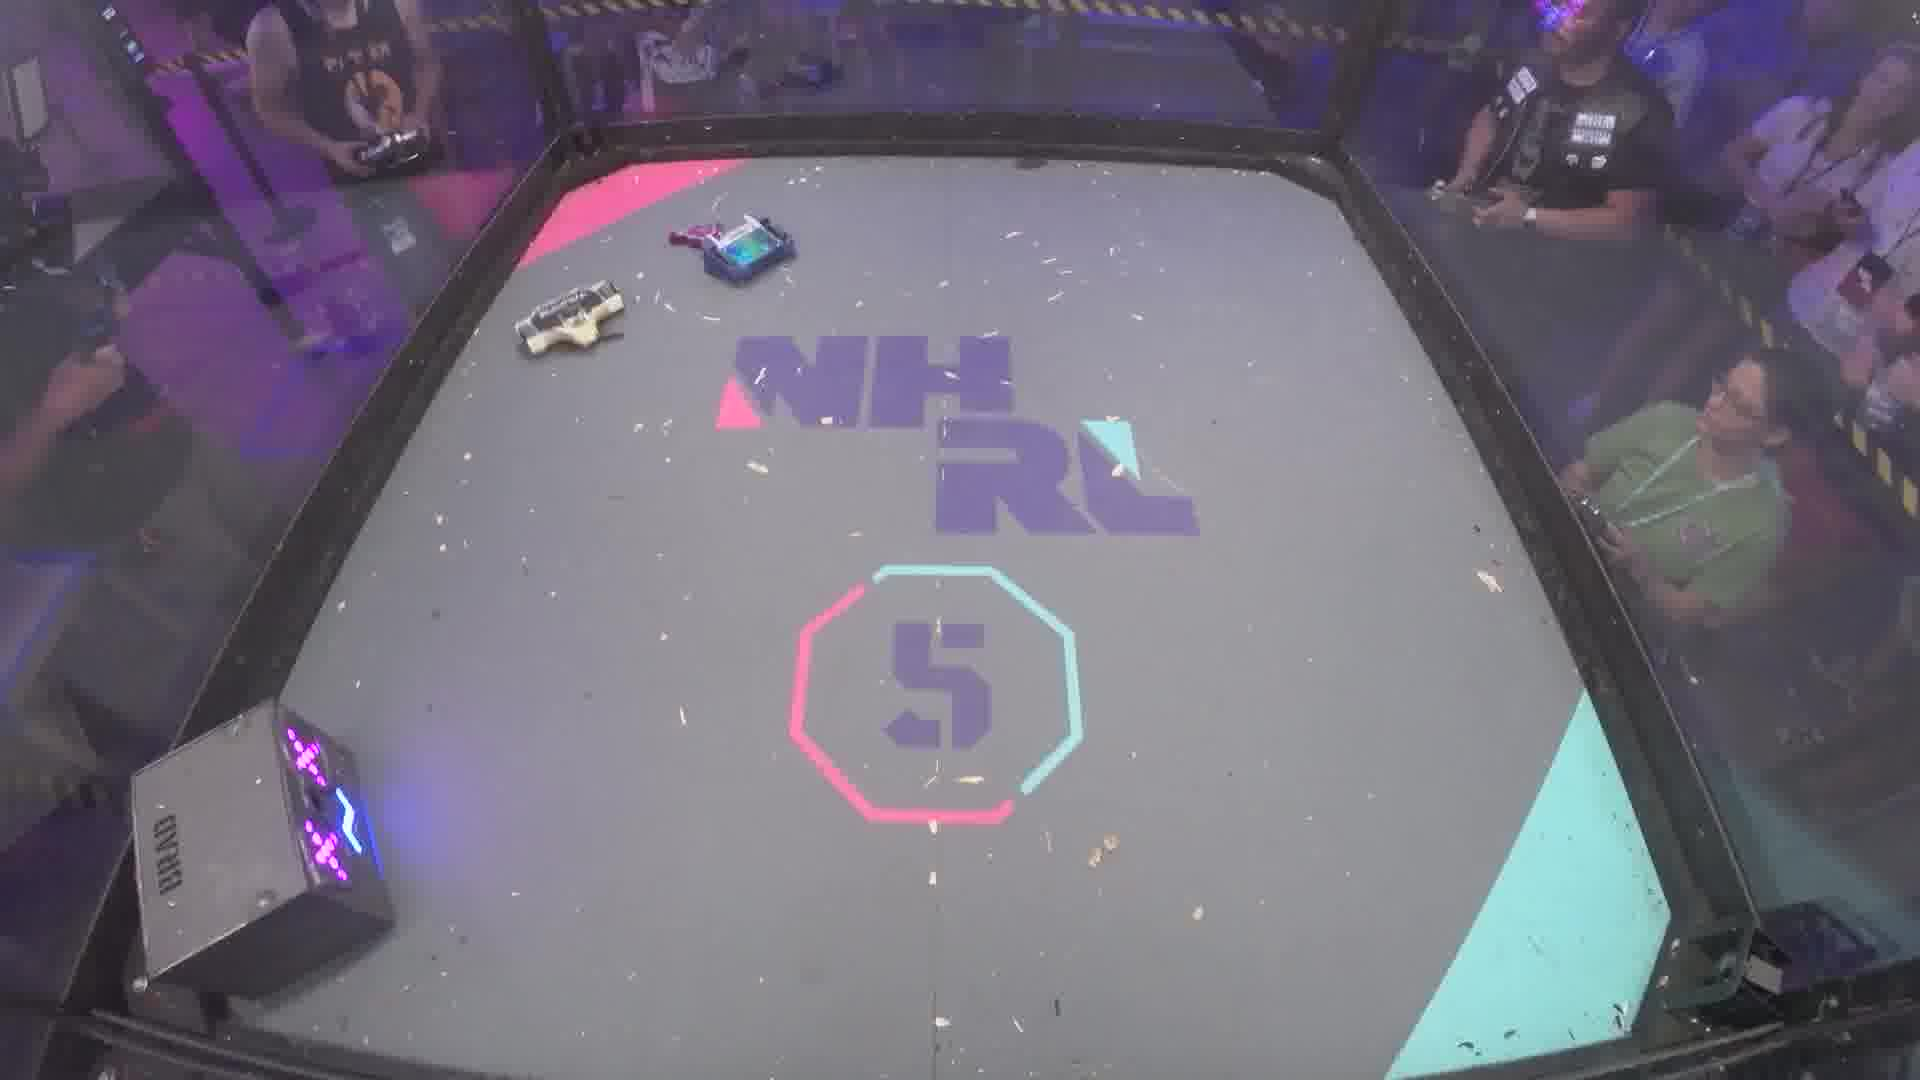combatbot: (520, 282, 626, 360), (703, 218, 796, 284)
housebot: (132, 699, 398, 997)
minibot: (671, 227, 724, 245)
